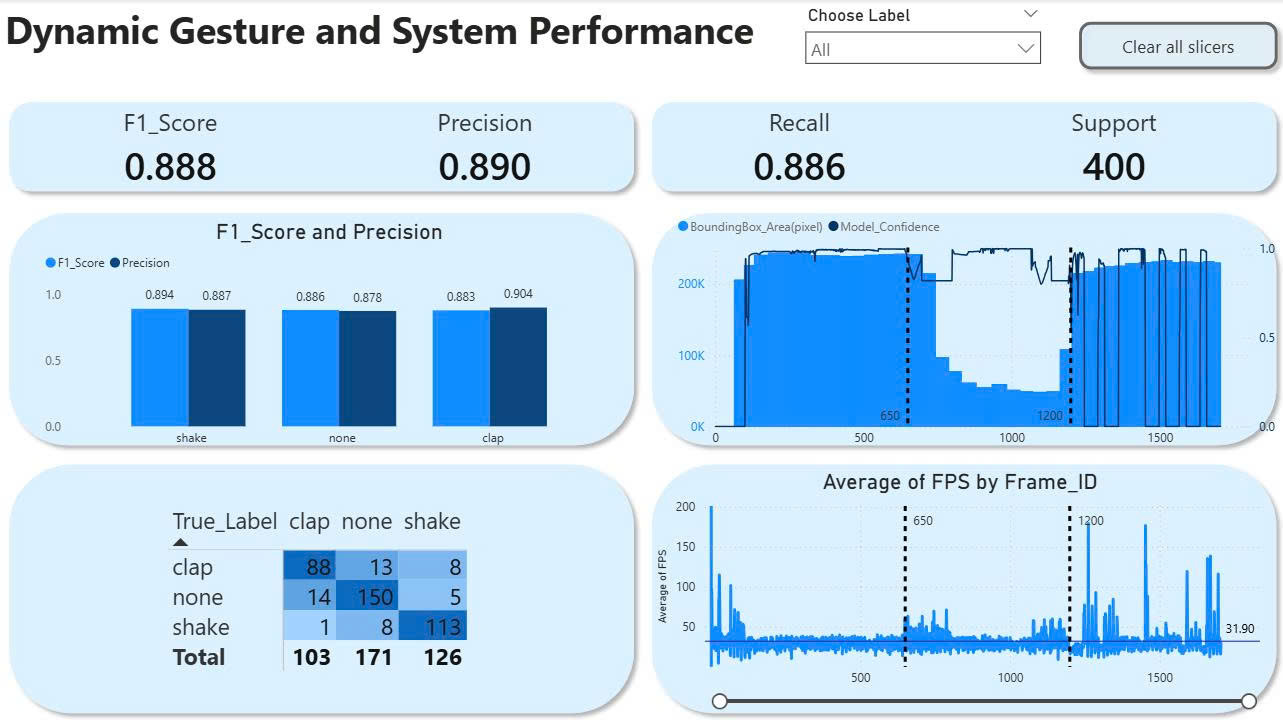

This screenshot's page, from the dashboard's own definition file:
{"tool":"powerbi","page":{"name":"GRU","canvas":[1280,720],"ordinal":2},"visuals":[{"type":"group","id":"g1","title":"Group 1","box":[0,93.2,1280,626.1],"z":0},{"type":"shape","box":[0,93.2,640,107.1],"z":0,"group":"g1"},{"type":"cardVisual","fields":{"Data":["Avg(gru_model_metrics.F1_Score)","Avg(gru_model_metrics.Precision)","Avg(gru_model_metrics.Recall)","Sum(gru_model_metrics.Support)"]},"box":[0,93.2,1280,108.5],"z":1000},{"type":"shape","box":[640,204.5,640,249],"z":1000,"group":"g1"},{"type":"clusteredColumnChart","title":"F1_Score and Precision","fields":{"Category":["gru_model_metrics.Class"],"Y":["Avg(gru_model_metrics.F1_Score)","Avg(gru_model_metrics.Precision)"]},"box":[40.3,218.4,576,236.5],"z":2000},{"type":"shape","box":[640,453.5,640,265.7],"z":2000,"group":"g1"},{"type":"slicer","fields":{"Values":["gru_model_metrics.Class"]},"box":[791.7,1.4,254.6,96],"z":3000},{"type":"shape","box":[0,204.5,640,249],"z":3000,"group":"g1"},{"type":"textbox","box":[0,0,791.2,79.5],"z":4000},{"type":"shape","box":[0,453.5,640,265.7],"z":4000,"group":"g1"},{"type":"lineChart","fields":{"Y":["Avg(powerbi_main_telemetry.FPS)"],"Category":["powerbi_main_telemetry.Frame_ID"]},"box":[649.7,467.5,612.2,242.1],"z":5000},{"type":"lineClusteredColumnComboChart","fields":{"Category":["powerbi_main_telemetry.Frame_ID"],"Y":["Avg(powerbi_main_telemetry.BoundingBox_Area)"],"Y2":["Avg(powerbi_main_telemetry.Model_Confidence)"]},"box":[669.2,205.9,605.2,249],"z":6000},{"type":"pivotTable","fields":{"Rows":["gru_confusion_matrix.True_Label"],"Columns":["gru_confusion_matrix.Predicted_Label"],"Values":["Sum(gru_confusion_matrix.Count)"]},"box":[161.4,498.1,317.2,179.5],"z":7000},{"type":"actionButton","box":[1064.3,13.9,215.7,65.4],"z":8000},{"type":"shape","box":[640,93.2,640,107.1],"z":8002,"group":"g1"}]}

Visuals, with their boxes in screenshot pixels (x1, y1, x2, y2), scaled from the page's 1280x720 canvas onto the 1283x720 screenshot:
"Group 1" group: [x1=0, y1=93, x2=1282, y2=719]
shape: [x1=0, y1=93, x2=642, y2=200]
cardVisual - Avg(gru_model_metrics.F1_Score) x Avg(gru_model_metrics.Precision): [x1=0, y1=93, x2=1282, y2=202]
shape: [x1=642, y1=204, x2=1282, y2=454]
"F1_Score and Precision" clusteredColumnChart: [x1=40, y1=218, x2=618, y2=455]
shape: [x1=642, y1=454, x2=1282, y2=719]
slicer - gru_model_metrics.Class: [x1=794, y1=1, x2=1049, y2=97]
shape: [x1=0, y1=204, x2=642, y2=454]
textbox: [x1=0, y1=0, x2=793, y2=80]
shape: [x1=0, y1=454, x2=642, y2=719]
lineChart - Avg(powerbi_main_telemetry.FPS) x powerbi_main_telemetry.Frame_ID: [x1=651, y1=468, x2=1265, y2=710]
lineClusteredColumnComboChart - powerbi_main_telemetry.Frame_ID x Avg(powerbi_main_telemetry.BoundingBox_Area): [x1=671, y1=206, x2=1277, y2=455]
pivotTable - gru_confusion_matrix.True_Label x gru_confusion_matrix.Predicted_Label: [x1=162, y1=498, x2=480, y2=678]
actionButton: [x1=1067, y1=14, x2=1282, y2=79]
shape: [x1=642, y1=93, x2=1282, y2=200]
